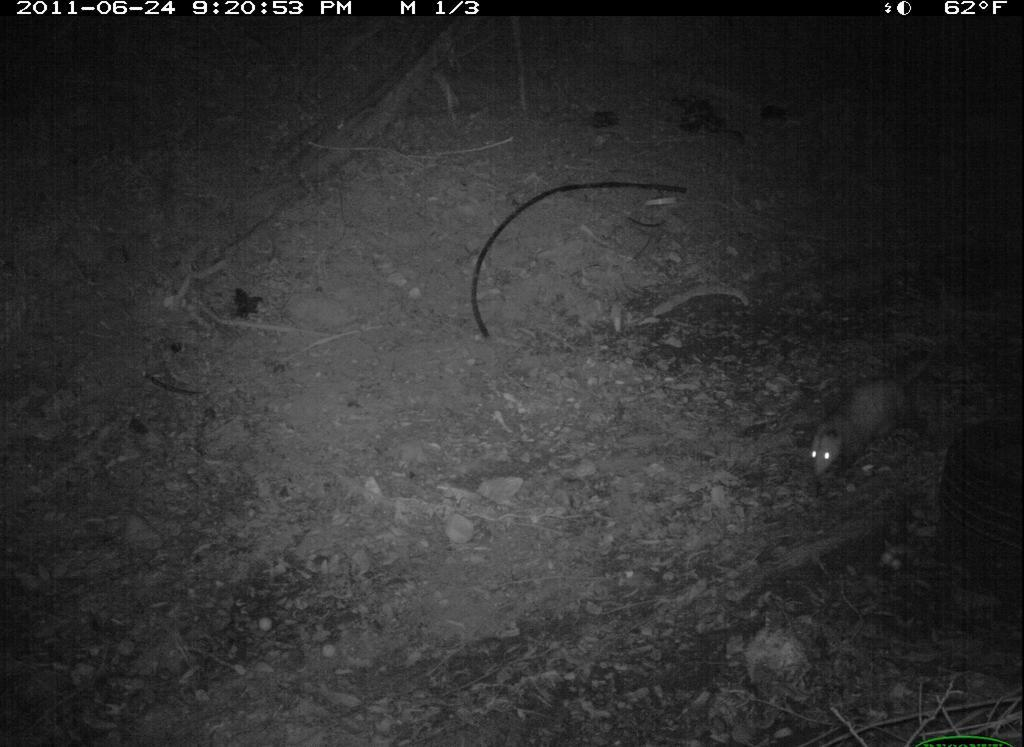opossum: (802, 324, 945, 492)
